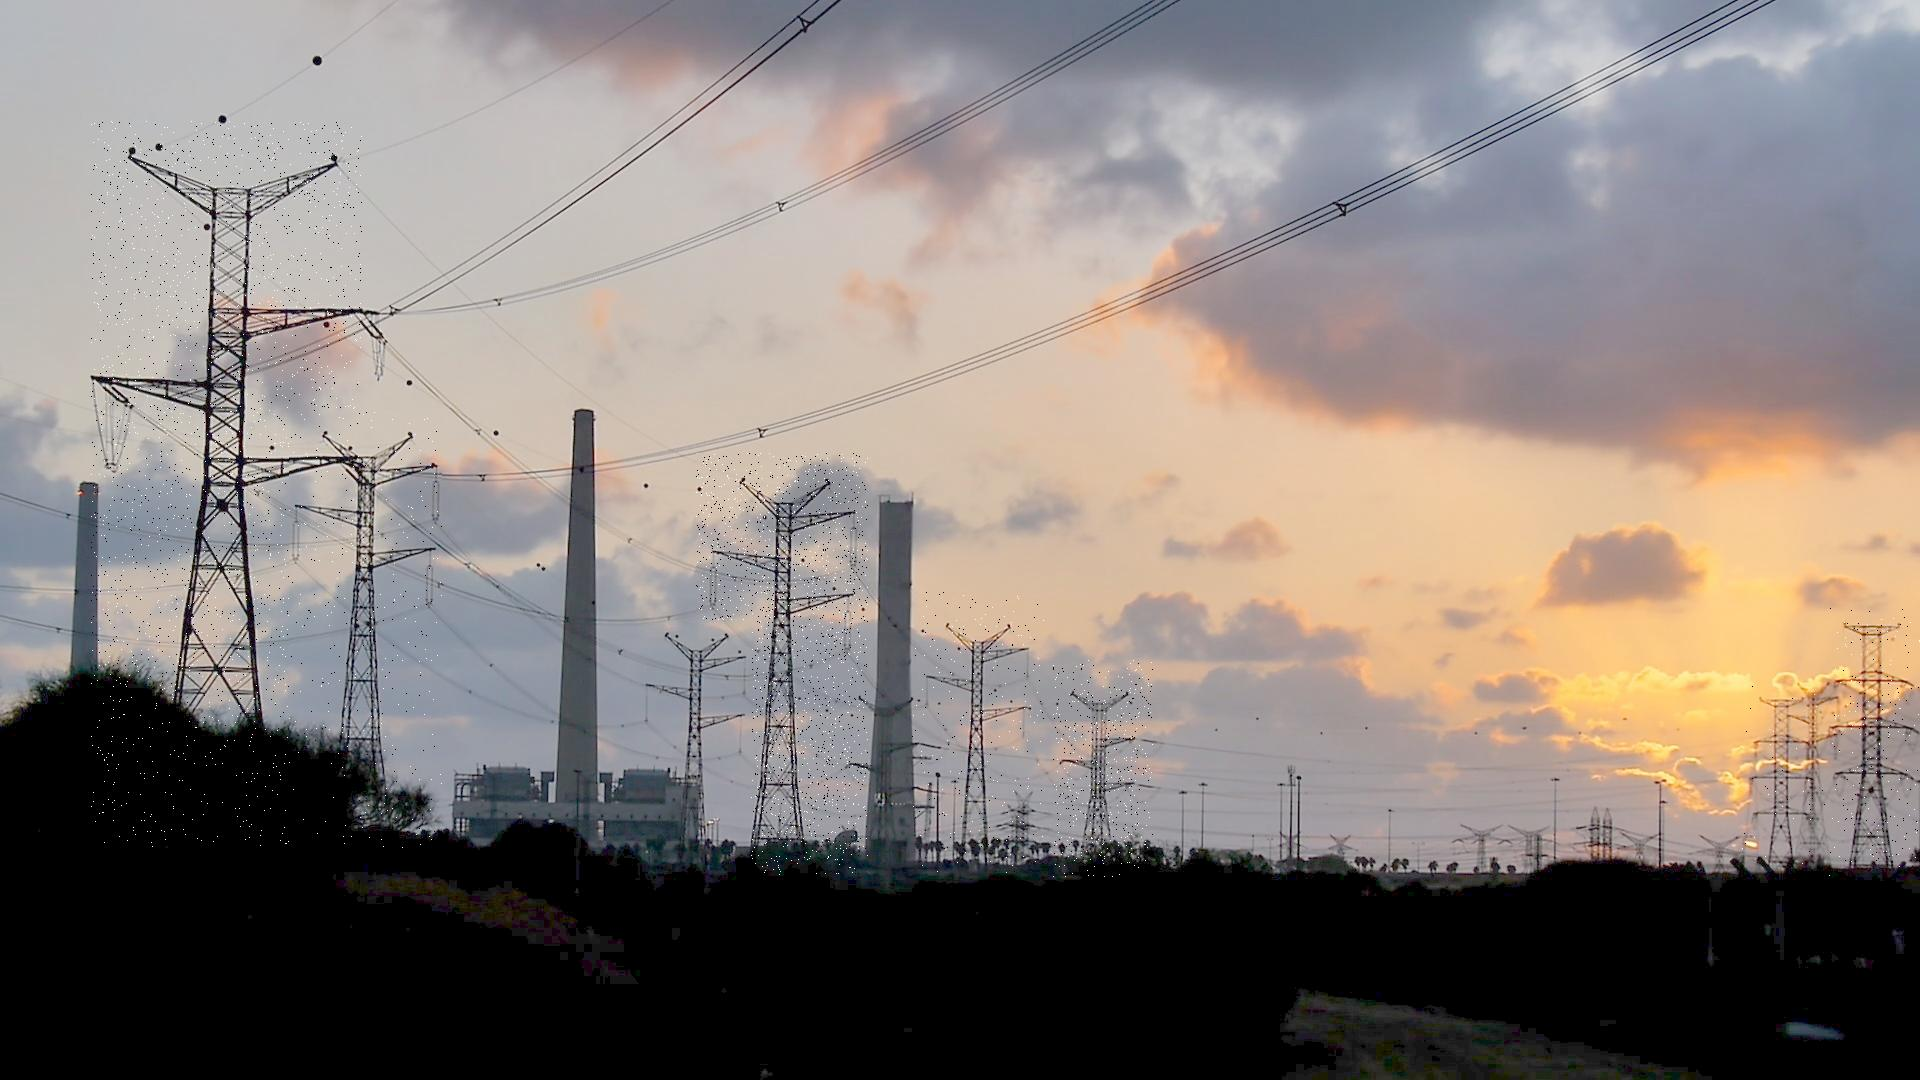cable tower: (91, 121, 363, 848), (696, 454, 868, 876), (290, 411, 443, 851), (913, 592, 1044, 873), (653, 620, 752, 880), (1830, 608, 1920, 872), (1054, 661, 1154, 877), (1741, 684, 1830, 877)
